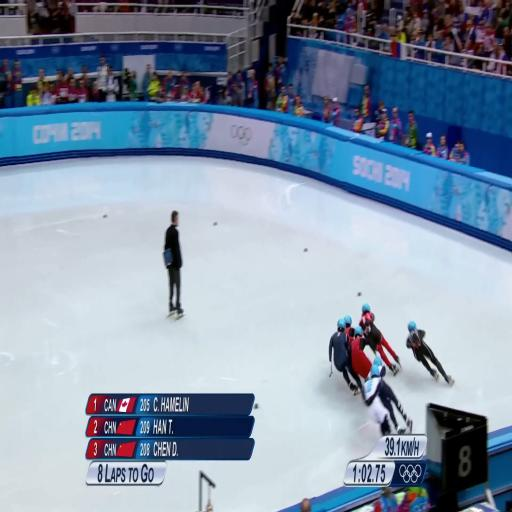Skater: (363, 365, 411, 435), (407, 321, 454, 385), (373, 355, 411, 431), (360, 304, 401, 374), (329, 319, 362, 394), (349, 326, 371, 379), (343, 316, 354, 342)
